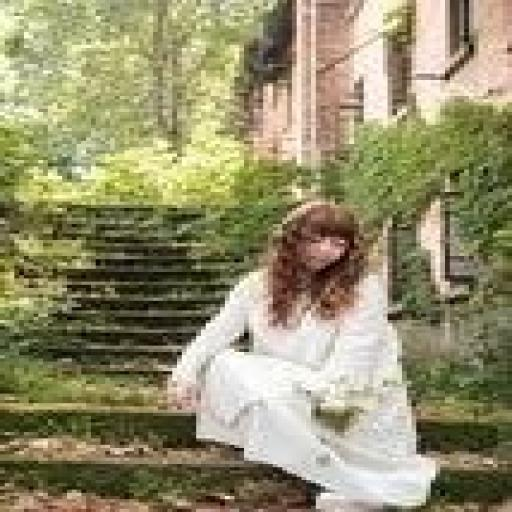sitting: (163, 198, 440, 509)
